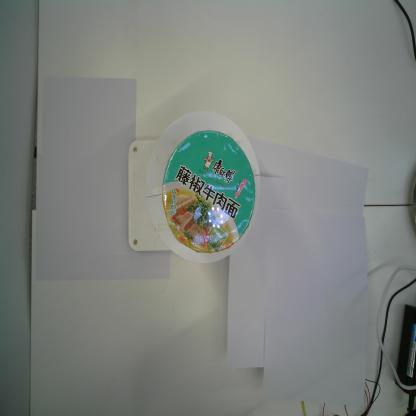Instant Noodles: (160, 129, 257, 256)
